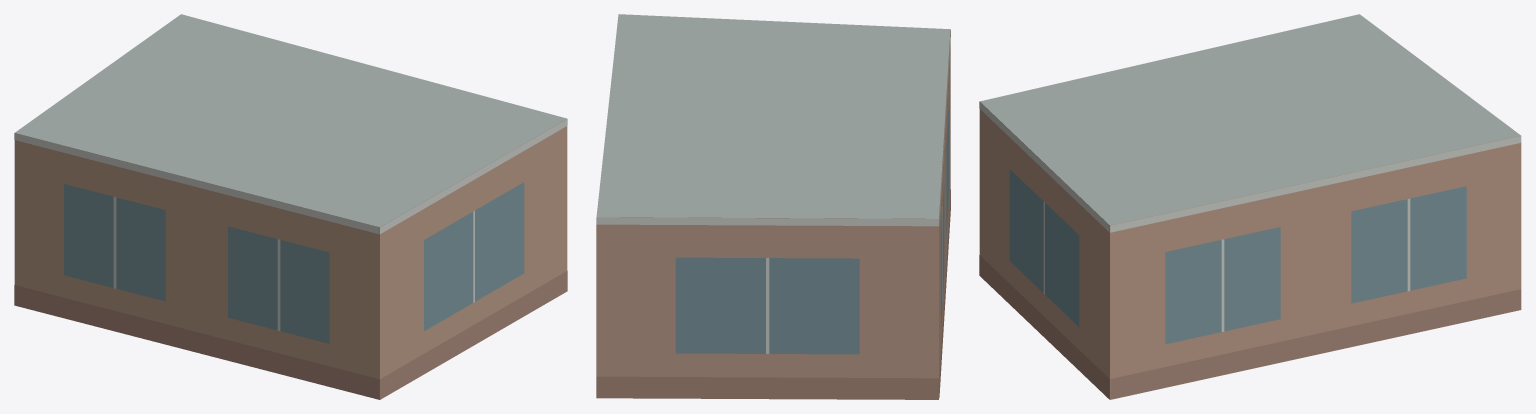
The model's file is survey-upis-32467705.glb.
3 views of the same model, side by side, from view 1: azimuth 30°, elevation 25°; view 2: azimuth 150°, elevation 25°; view 3: azimuth 270°, elevation 25° (orthographic). The views are drawn at different scales.
Parts seen in each view (by area): view 1: survey-upis-32467705.tmp; view 2: survey-upis-32467705.tmp; view 3: survey-upis-32467705.tmp.
Part boxes in pixels (x1,y1,x2,y2): survey-upis-32467705.tmp: [14, 14, 567, 399]; survey-upis-32467705.tmp: [596, 14, 950, 399]; survey-upis-32467705.tmp: [979, 14, 1521, 399].
Size of the model in its own units: 7.95 by 3.05 by 8.6.
